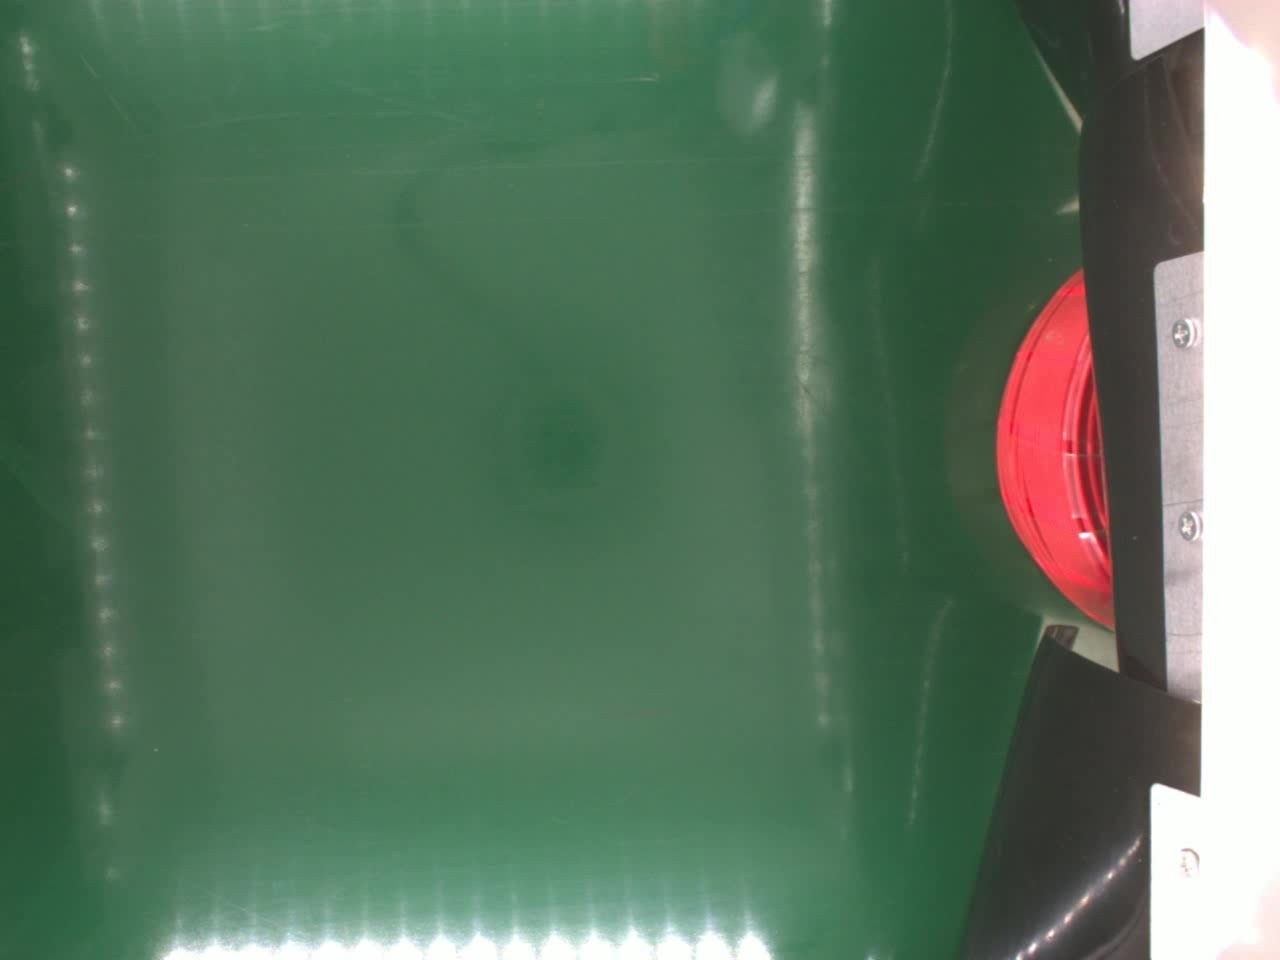red: (999, 259, 1115, 639)
